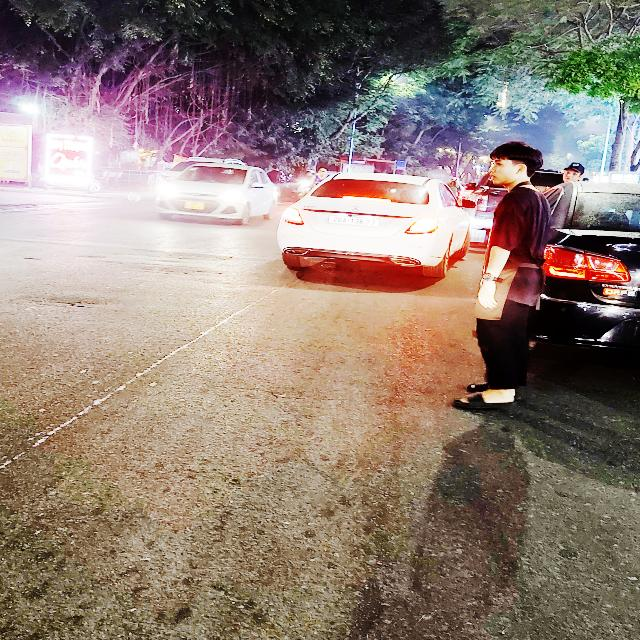license_plate: (326, 214, 385, 229)
